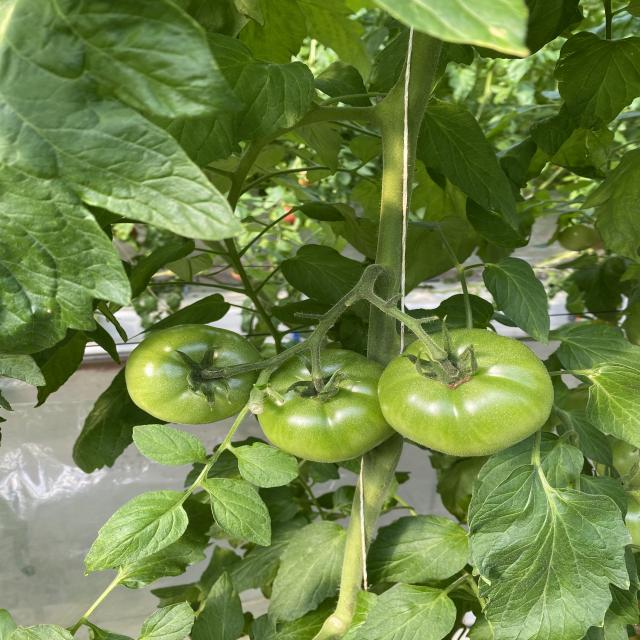yesil: (102, 284, 567, 486)
